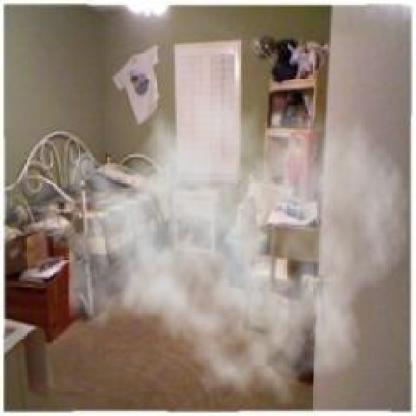Smoke: (68, 54, 410, 409)
